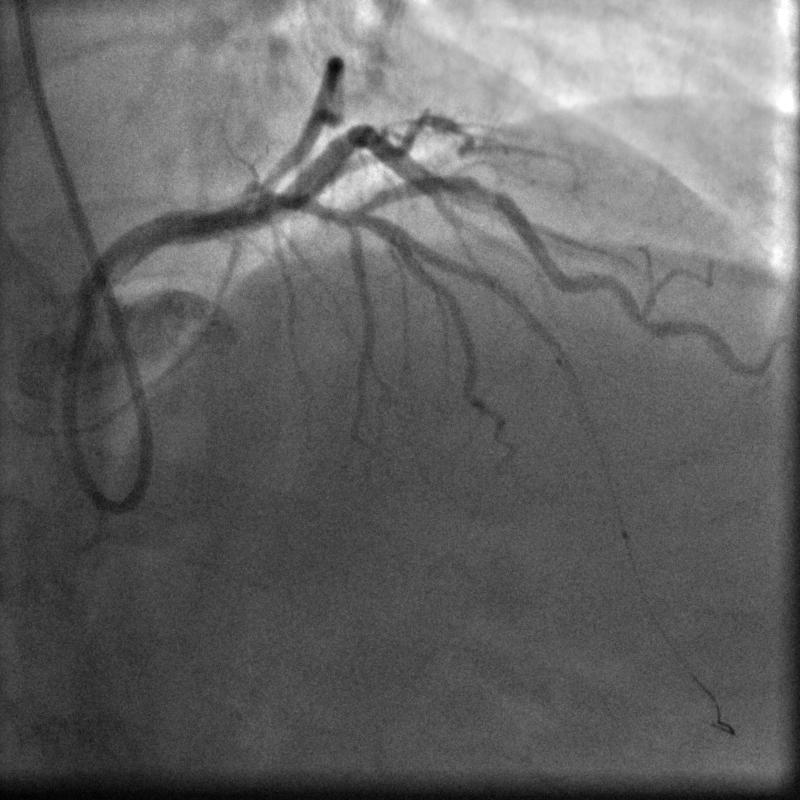Stenosis: (462, 167, 509, 213)
